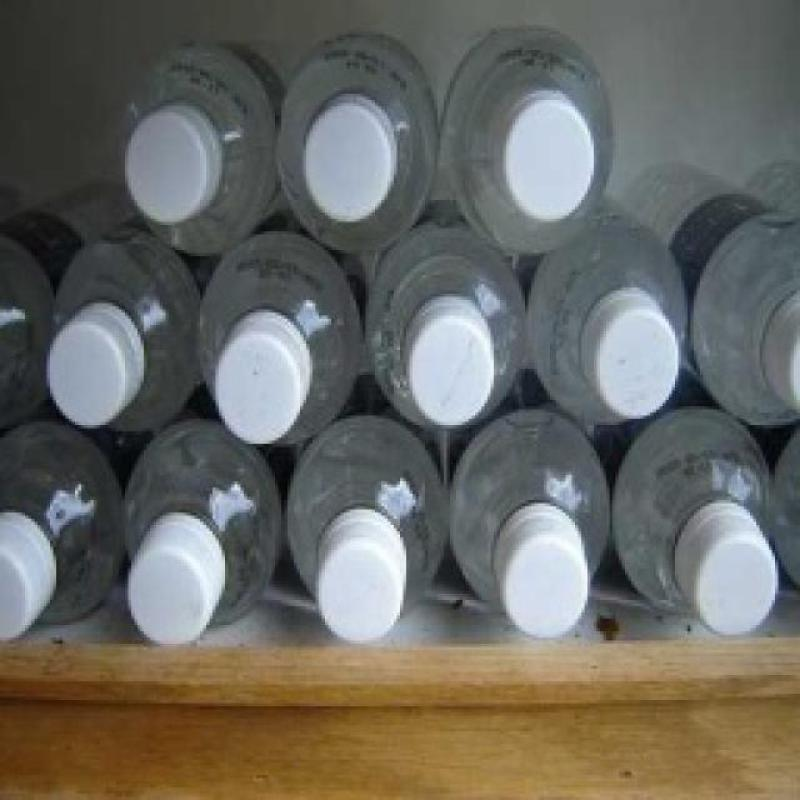botella: (625, 156, 800, 425), (440, 23, 620, 254), (615, 406, 787, 635), (445, 412, 620, 636), (116, 29, 284, 260), (284, 416, 454, 640), (360, 216, 534, 432), (116, 425, 285, 644), (49, 223, 211, 442), (534, 206, 690, 431), (208, 224, 370, 440), (280, 28, 440, 244), (0, 176, 131, 439), (0, 424, 125, 640)
